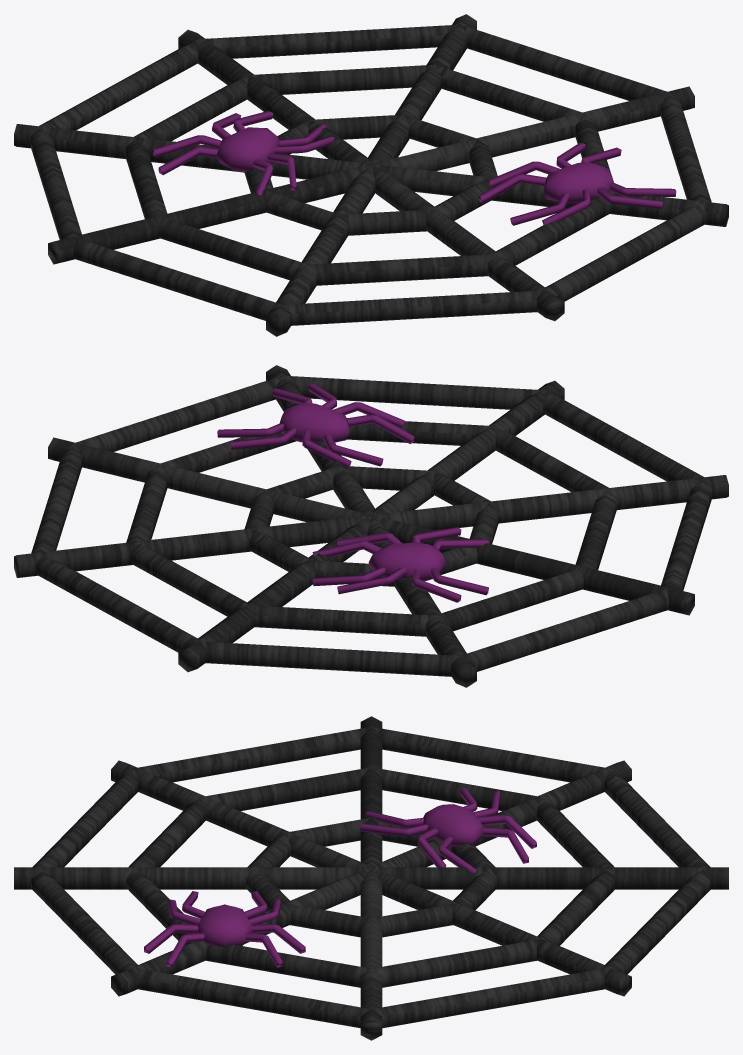
File: HW_SpiderWeb.fbx
3 views of the same model, one above another, from view 1: azimuth 30°, elevation 25°; view 2: azimuth 150°, elevation 25°; view 3: azimuth 270°, elevation 25° (orthographic). The views are drawn at different scales.
Visible parts, largest first — view 1: HW_SpiderWeb; view 2: HW_SpiderWeb; view 3: HW_SpiderWeb.
Boxes of the visible parts, x1,y1,x2,y2 form: HW_SpiderWeb: [14, 14, 728, 336]; HW_SpiderWeb: [14, 365, 728, 687]; HW_SpiderWeb: [14, 716, 728, 1040].
Size of the model in its own units: 0.22 by 0.0139 by 0.22.
1 material, 1 textured.
